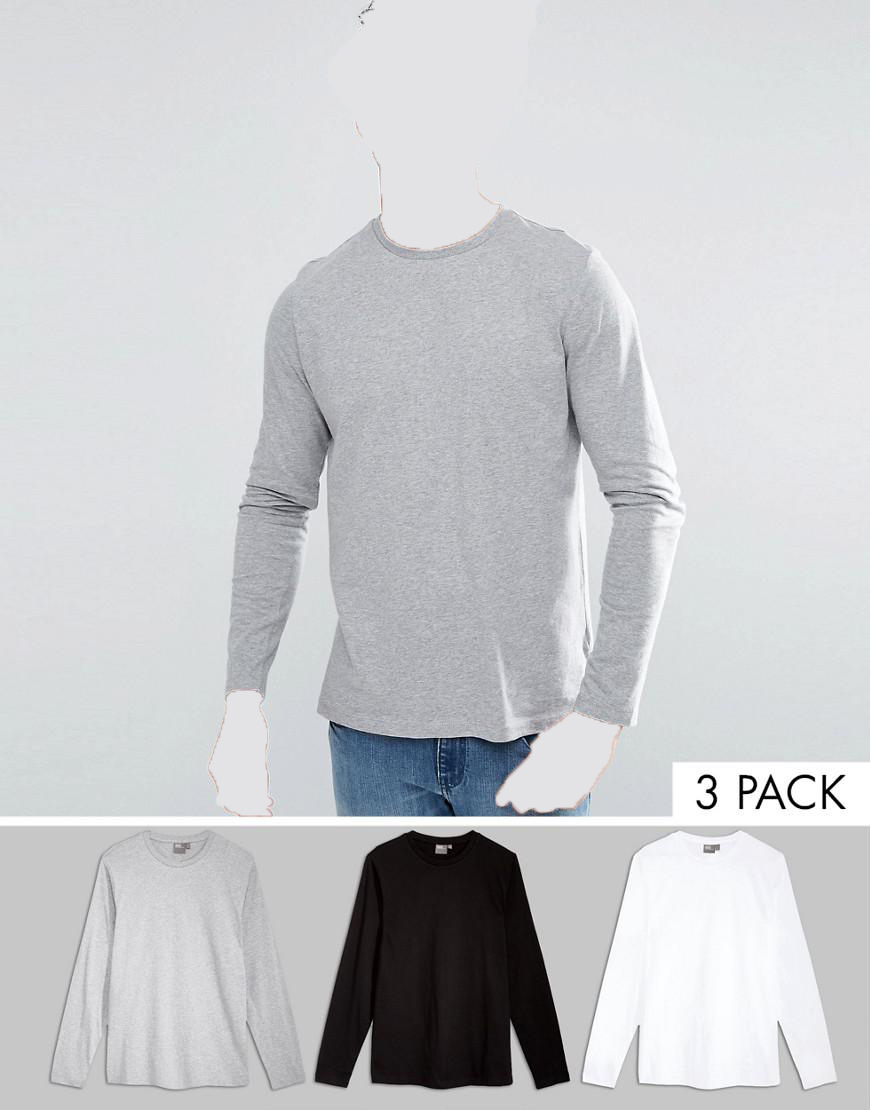teeshirt: (218, 212, 688, 739), (44, 832, 308, 1096), (581, 830, 840, 1093), (317, 832, 571, 1096)
